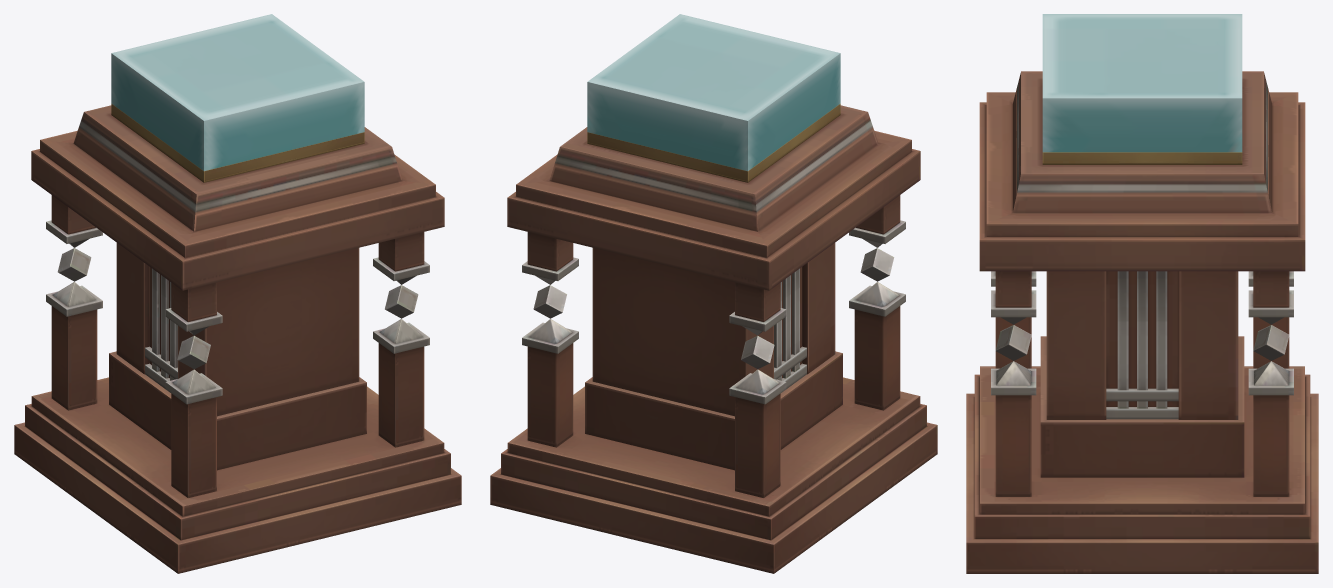
The model's file is my_wildhunt_01_displaystand_06.glb.
The picture shows the model from 3 angles, left to right: view 1: azimuth 30°, elevation 25°; view 2: azimuth 150°, elevation 25°; view 3: azimuth 270°, elevation 25°; orthographic projection. The views are drawn at different scales.
Parts seen in each view (by area): view 1: my_wildhunt_01_displaystand_06.001, my_wildhunt_01_displaystand_06_glass; view 2: my_wildhunt_01_displaystand_06.001, my_wildhunt_01_displaystand_06_glass; view 3: my_wildhunt_01_displaystand_06.001, my_wildhunt_01_displaystand_06_glass.
Boxes of the visible parts, bbox=[...] form: my_wildhunt_01_displaystand_06.001: bbox=[14, 103, 461, 573]; my_wildhunt_01_displaystand_06_glass: bbox=[111, 14, 364, 171]; my_wildhunt_01_displaystand_06.001: bbox=[490, 103, 937, 573]; my_wildhunt_01_displaystand_06_glass: bbox=[587, 14, 840, 171]; my_wildhunt_01_displaystand_06.001: bbox=[966, 71, 1318, 573]; my_wildhunt_01_displaystand_06_glass: bbox=[1042, 14, 1242, 152].
Bounding box in the file's own units: 0.00477 × 0.00662 × 0.00477.
Materials: 2 (2 with a texture image).
